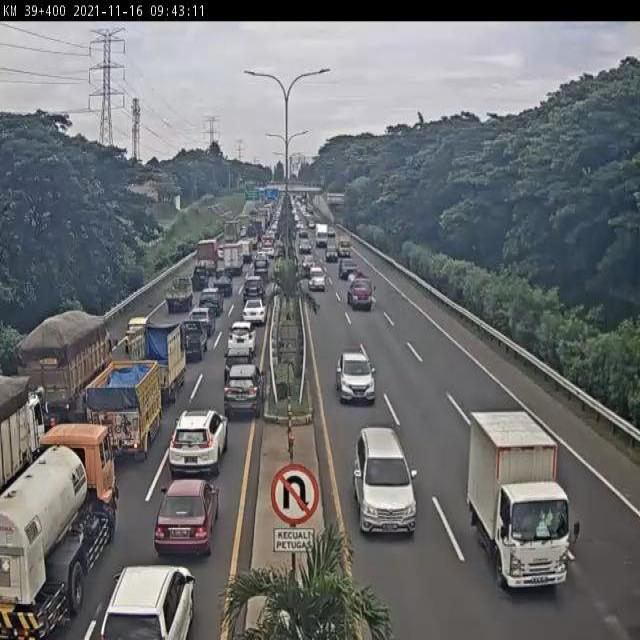car: (98, 565, 194, 640), (353, 427, 417, 536), (156, 478, 220, 558), (171, 409, 229, 476), (225, 365, 266, 420), (335, 349, 375, 404), (182, 319, 208, 361), (123, 314, 152, 350), (224, 347, 254, 377), (227, 321, 256, 352), (187, 307, 215, 336), (241, 297, 268, 324), (199, 288, 223, 315), (212, 267, 233, 297), (241, 276, 265, 301), (191, 265, 210, 291), (338, 257, 357, 280), (309, 267, 326, 292)
truck-m-: (0, 421, 117, 640), (12, 315, 110, 424), (0, 378, 45, 498)
truck-s-: (465, 411, 569, 593), (88, 359, 163, 461), (127, 324, 186, 404), (164, 277, 194, 311), (348, 275, 374, 308)
